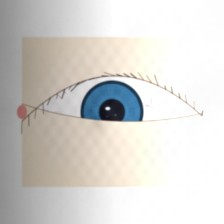pterygium_lesion: (22, 93, 70, 131)
